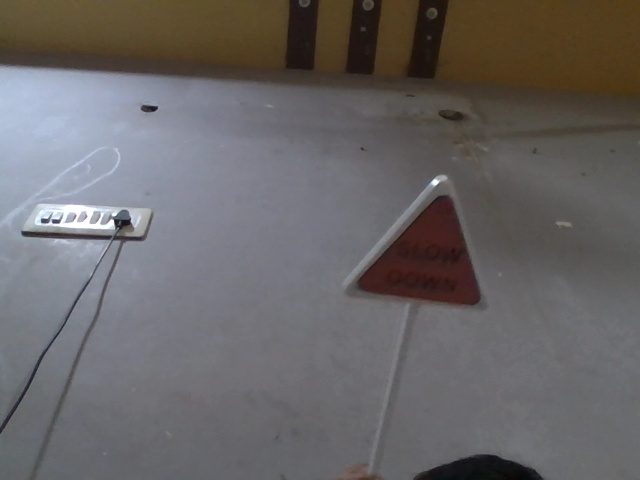slowdown: (323, 172, 510, 334)
